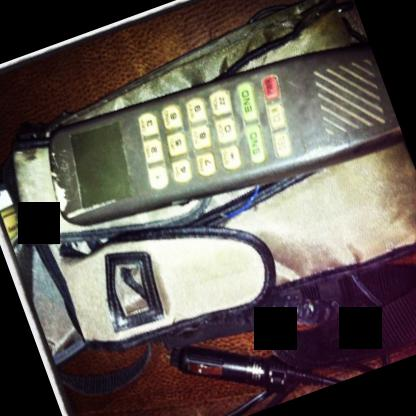handbag: (4, 0, 416, 368)
